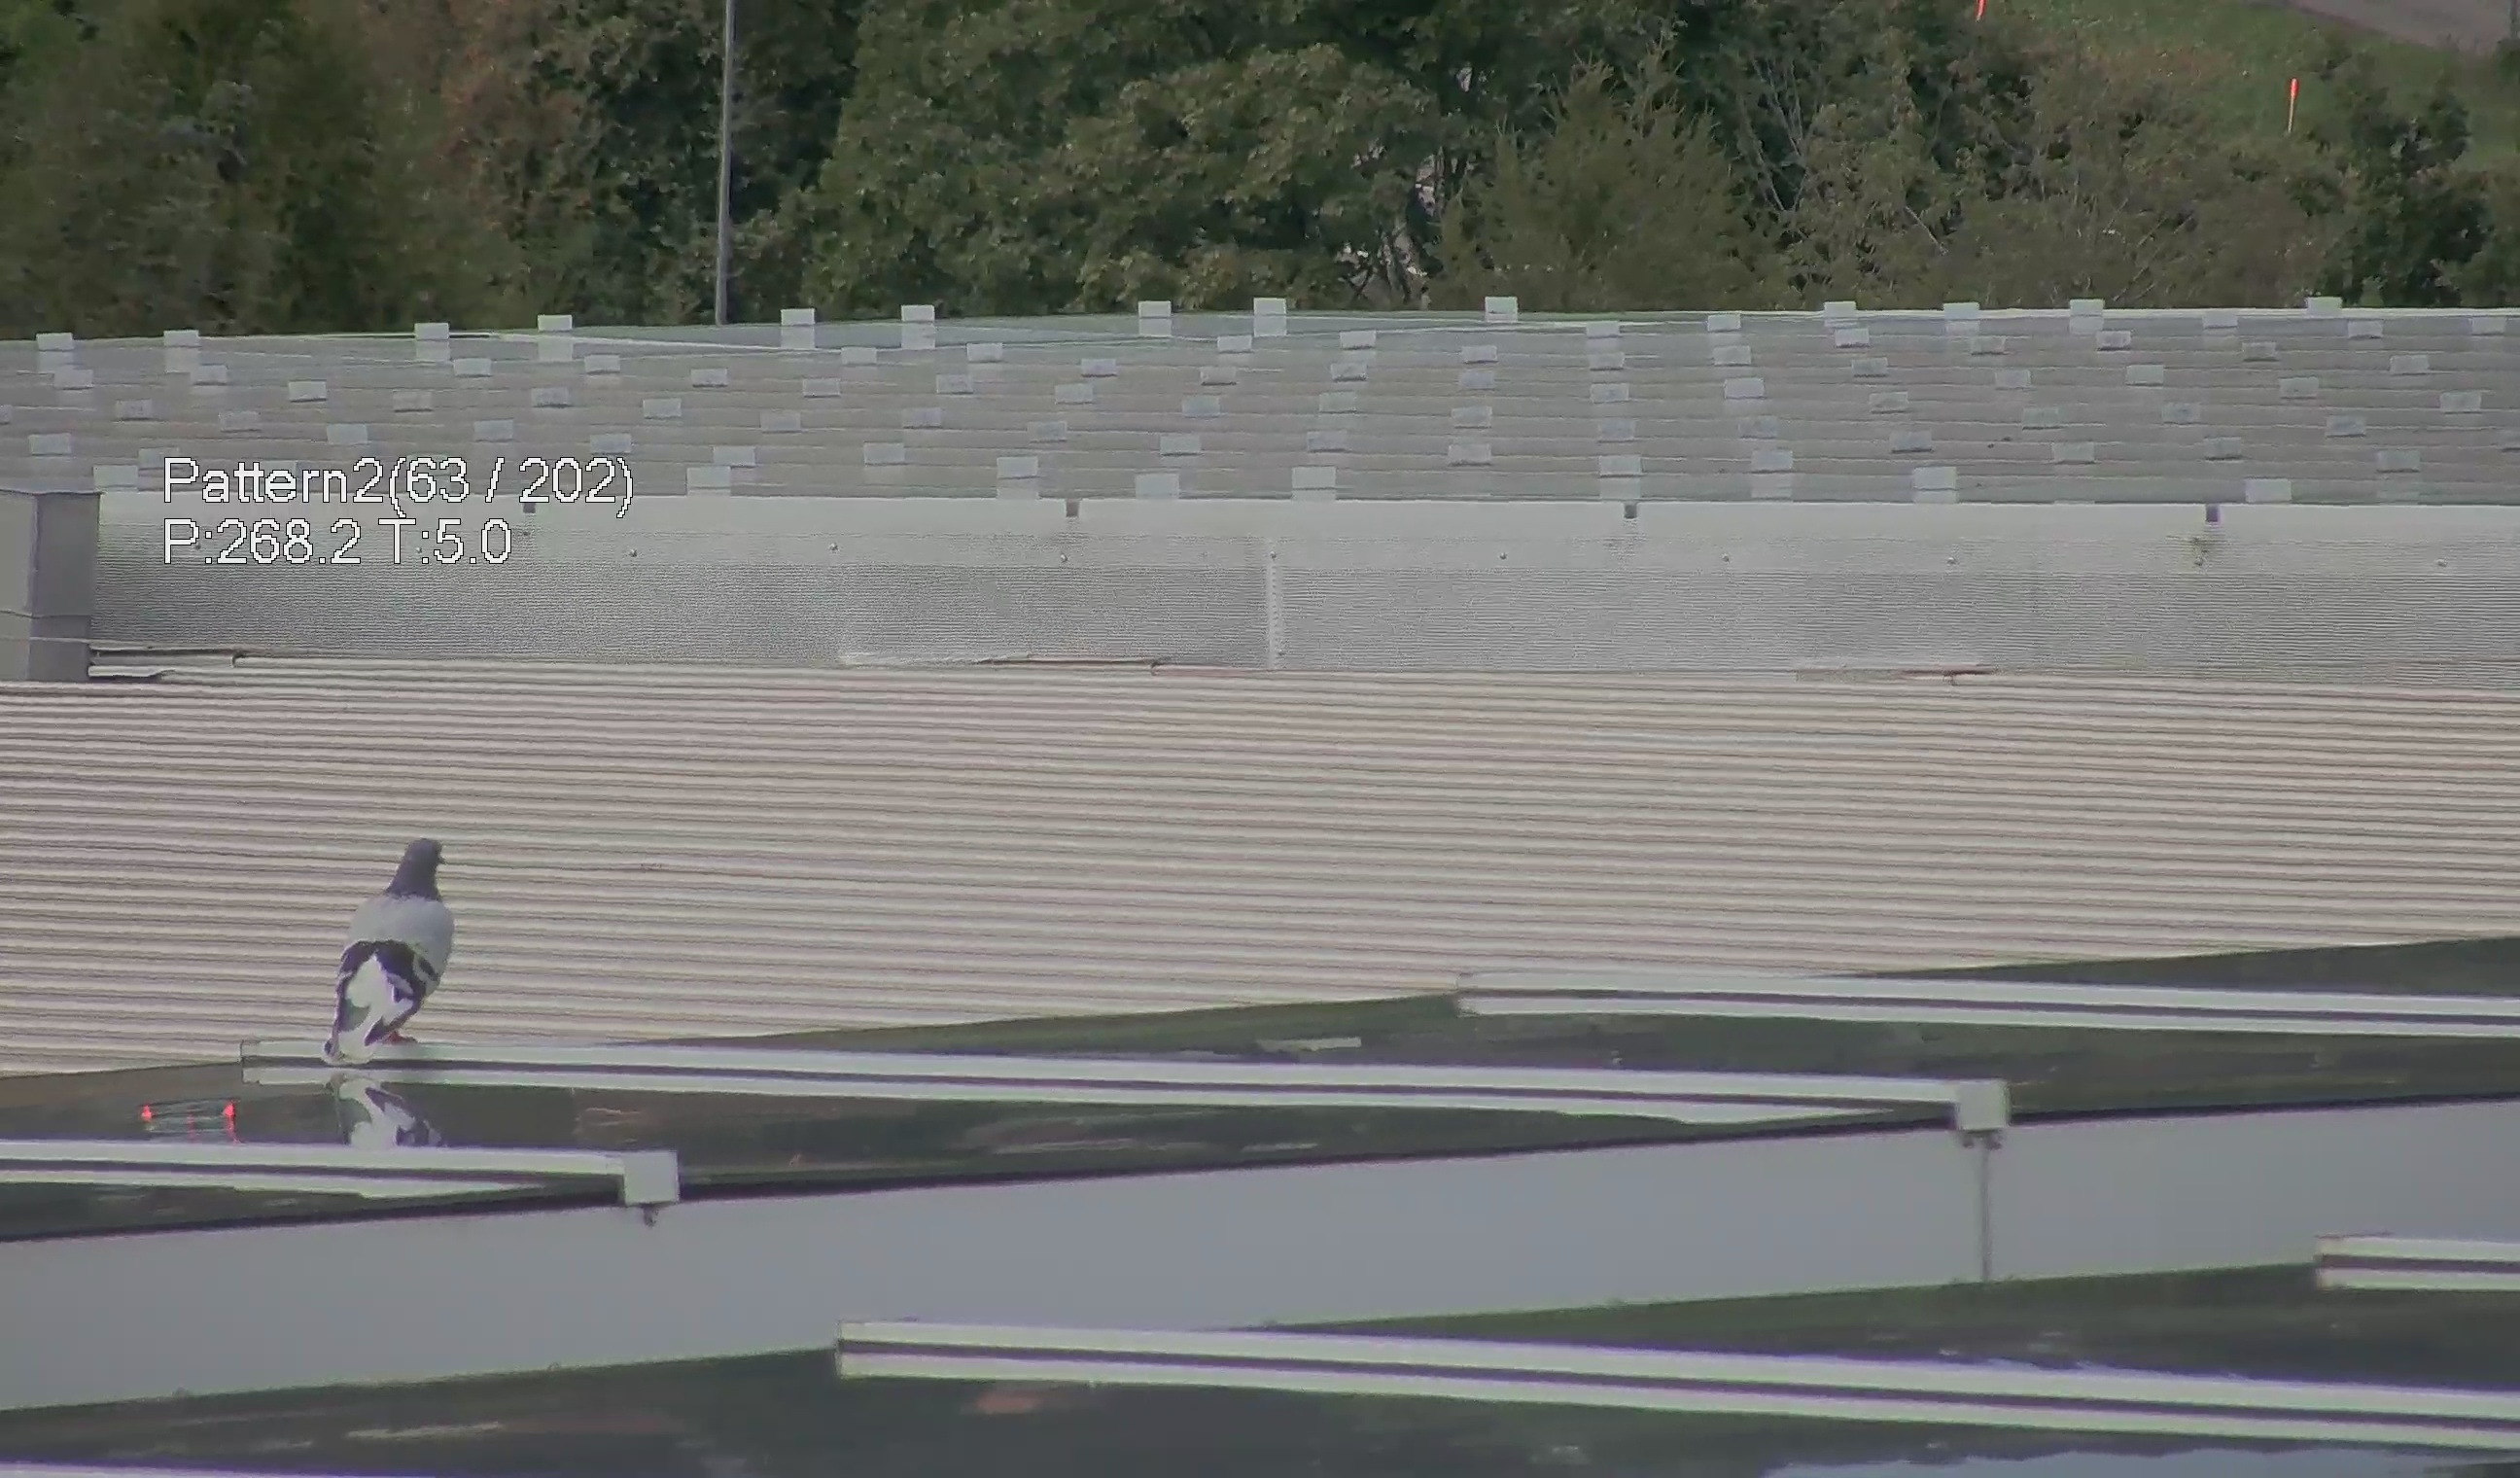Pigeon: (317, 839, 462, 1070)
